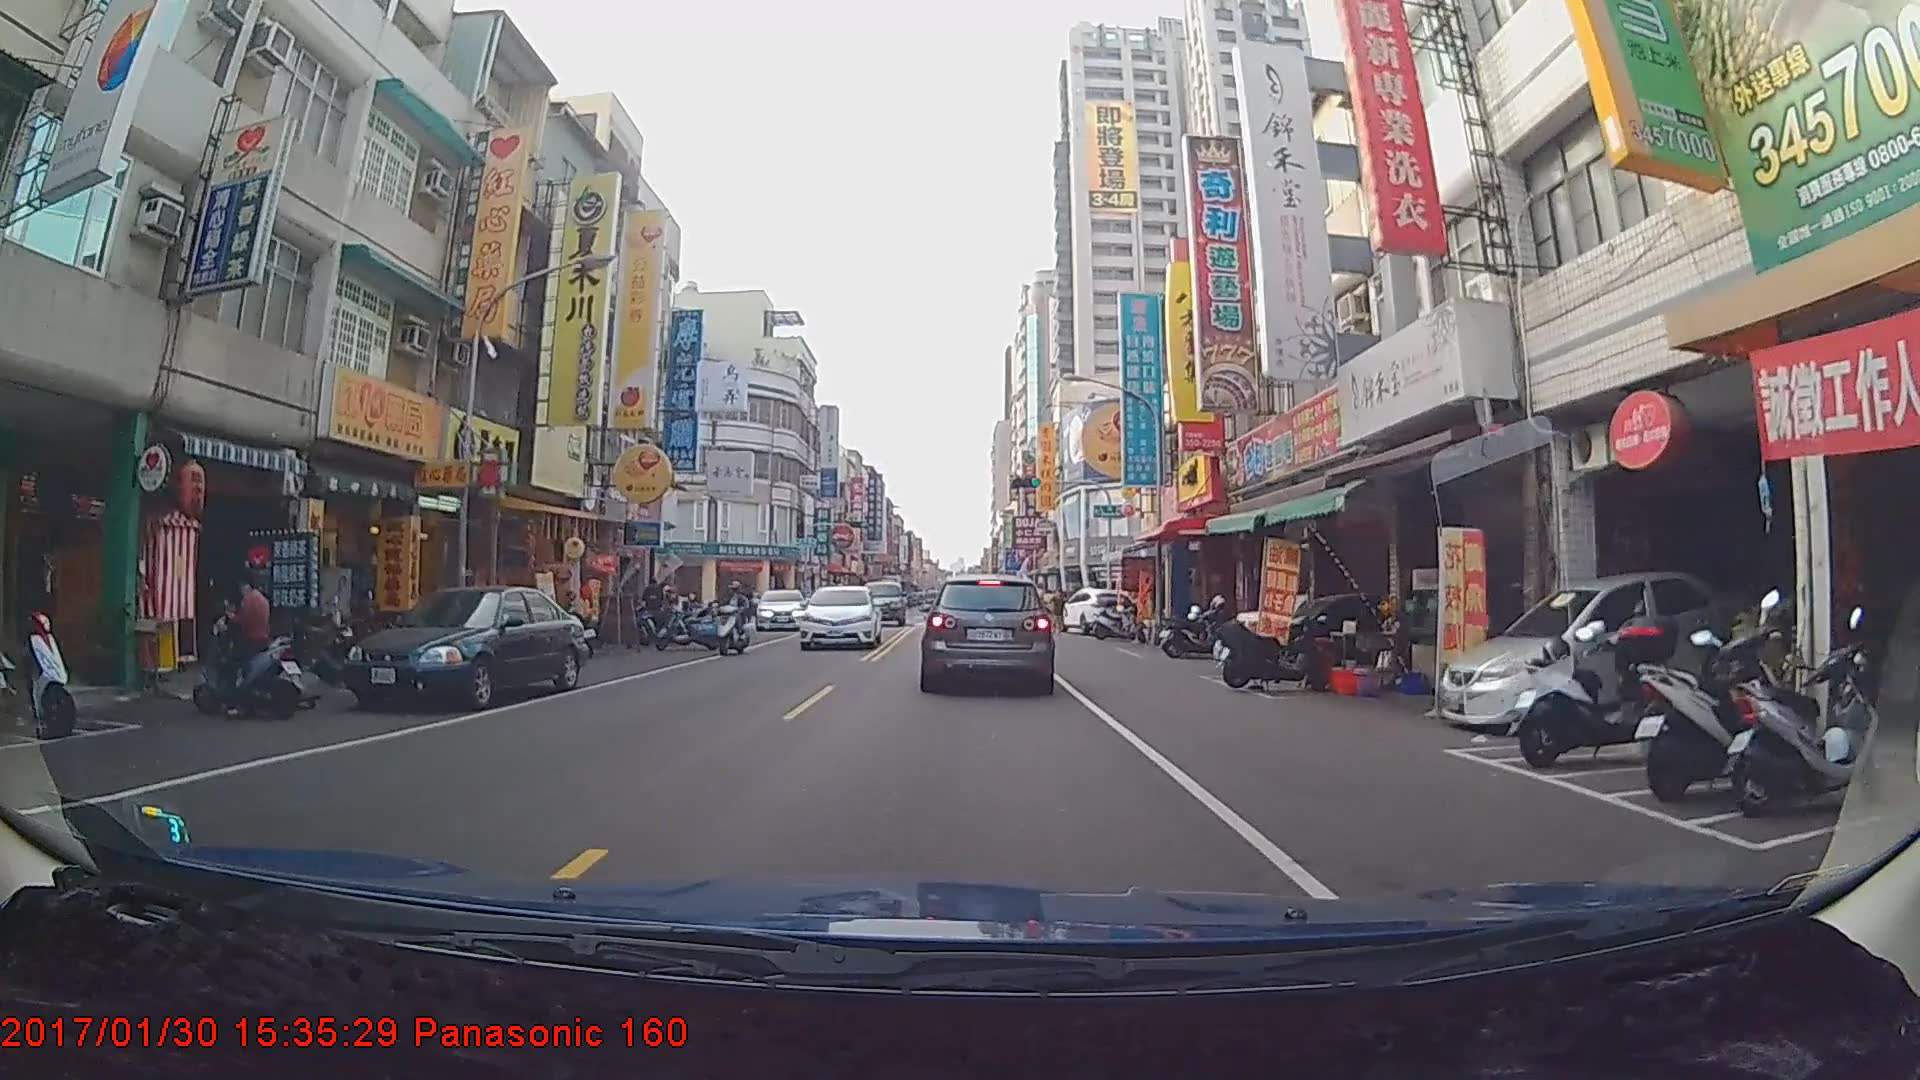pedestrian: (1049, 588, 1069, 637)
rider: (193, 566, 312, 724), (710, 582, 758, 659)
vehicle: (342, 584, 588, 706), (923, 573, 1052, 691), (797, 576, 879, 645), (1057, 583, 1142, 635), (752, 586, 810, 631), (856, 576, 905, 623)
